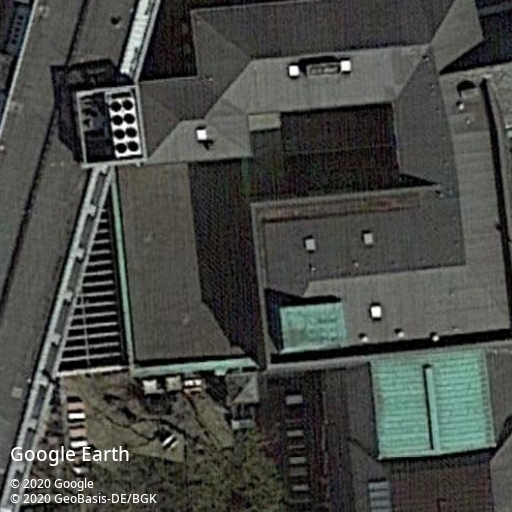Chiller: (107, 96, 144, 158)
